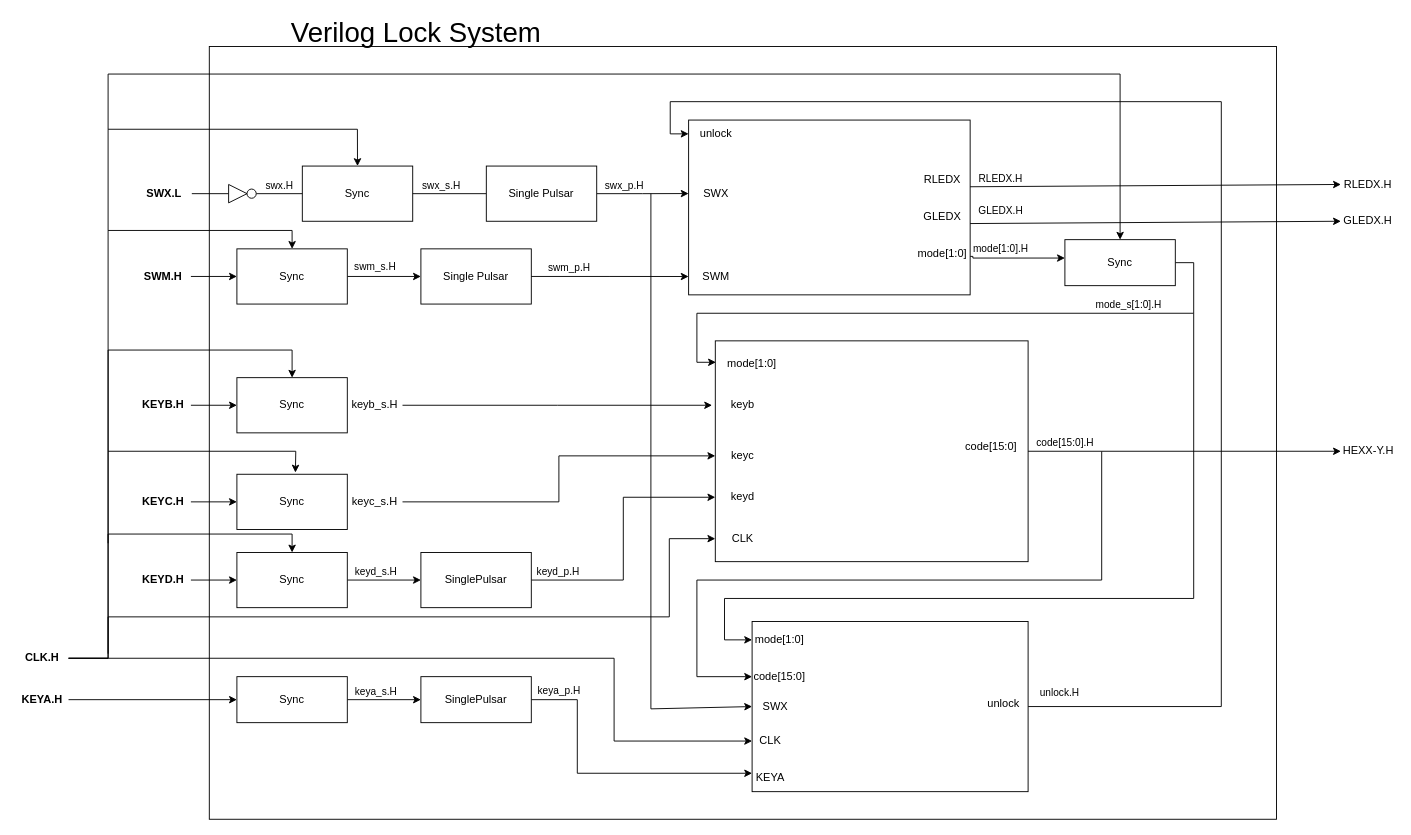
Some shapes in this 1411 by 835 pixel diagram are drawn without their labels. Here are the shapes that lost their labels. From the top down, the box of each, then its label:
(688, 119, 970, 295): ModeCTRL
(714, 340, 1028, 562): CodeEntry
(751, 621, 1028, 792): CodeControl
